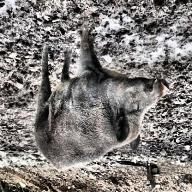boar: (21, 26, 181, 185)
